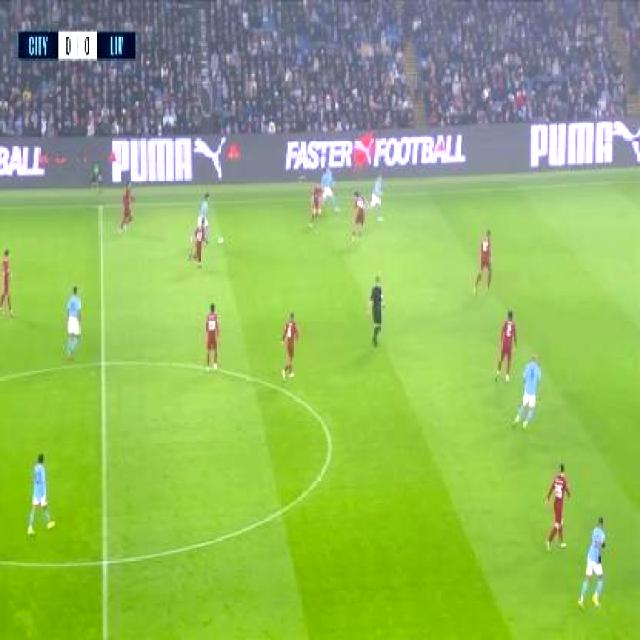halfcircle_bottom: (88, 540, 119, 582)
halfcircle_top: (88, 346, 115, 380)
midline_top_intersection: (89, 194, 109, 220)
